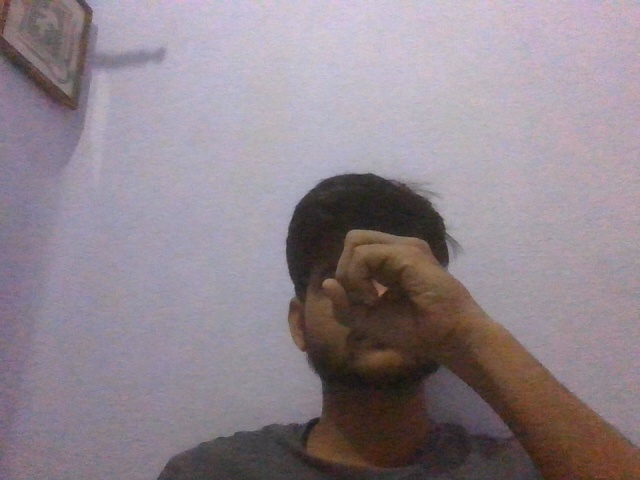no: (308, 226, 488, 382)
